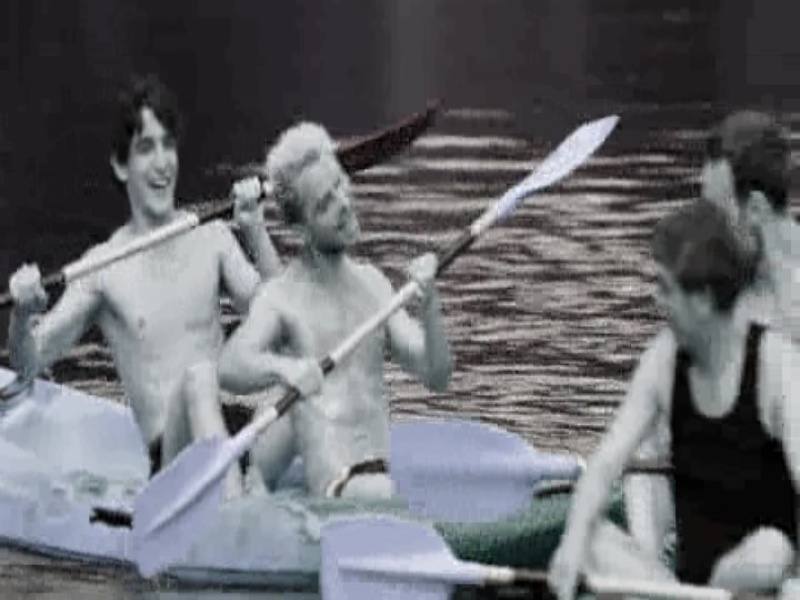TsisyArotava: (97, 82, 199, 232)
